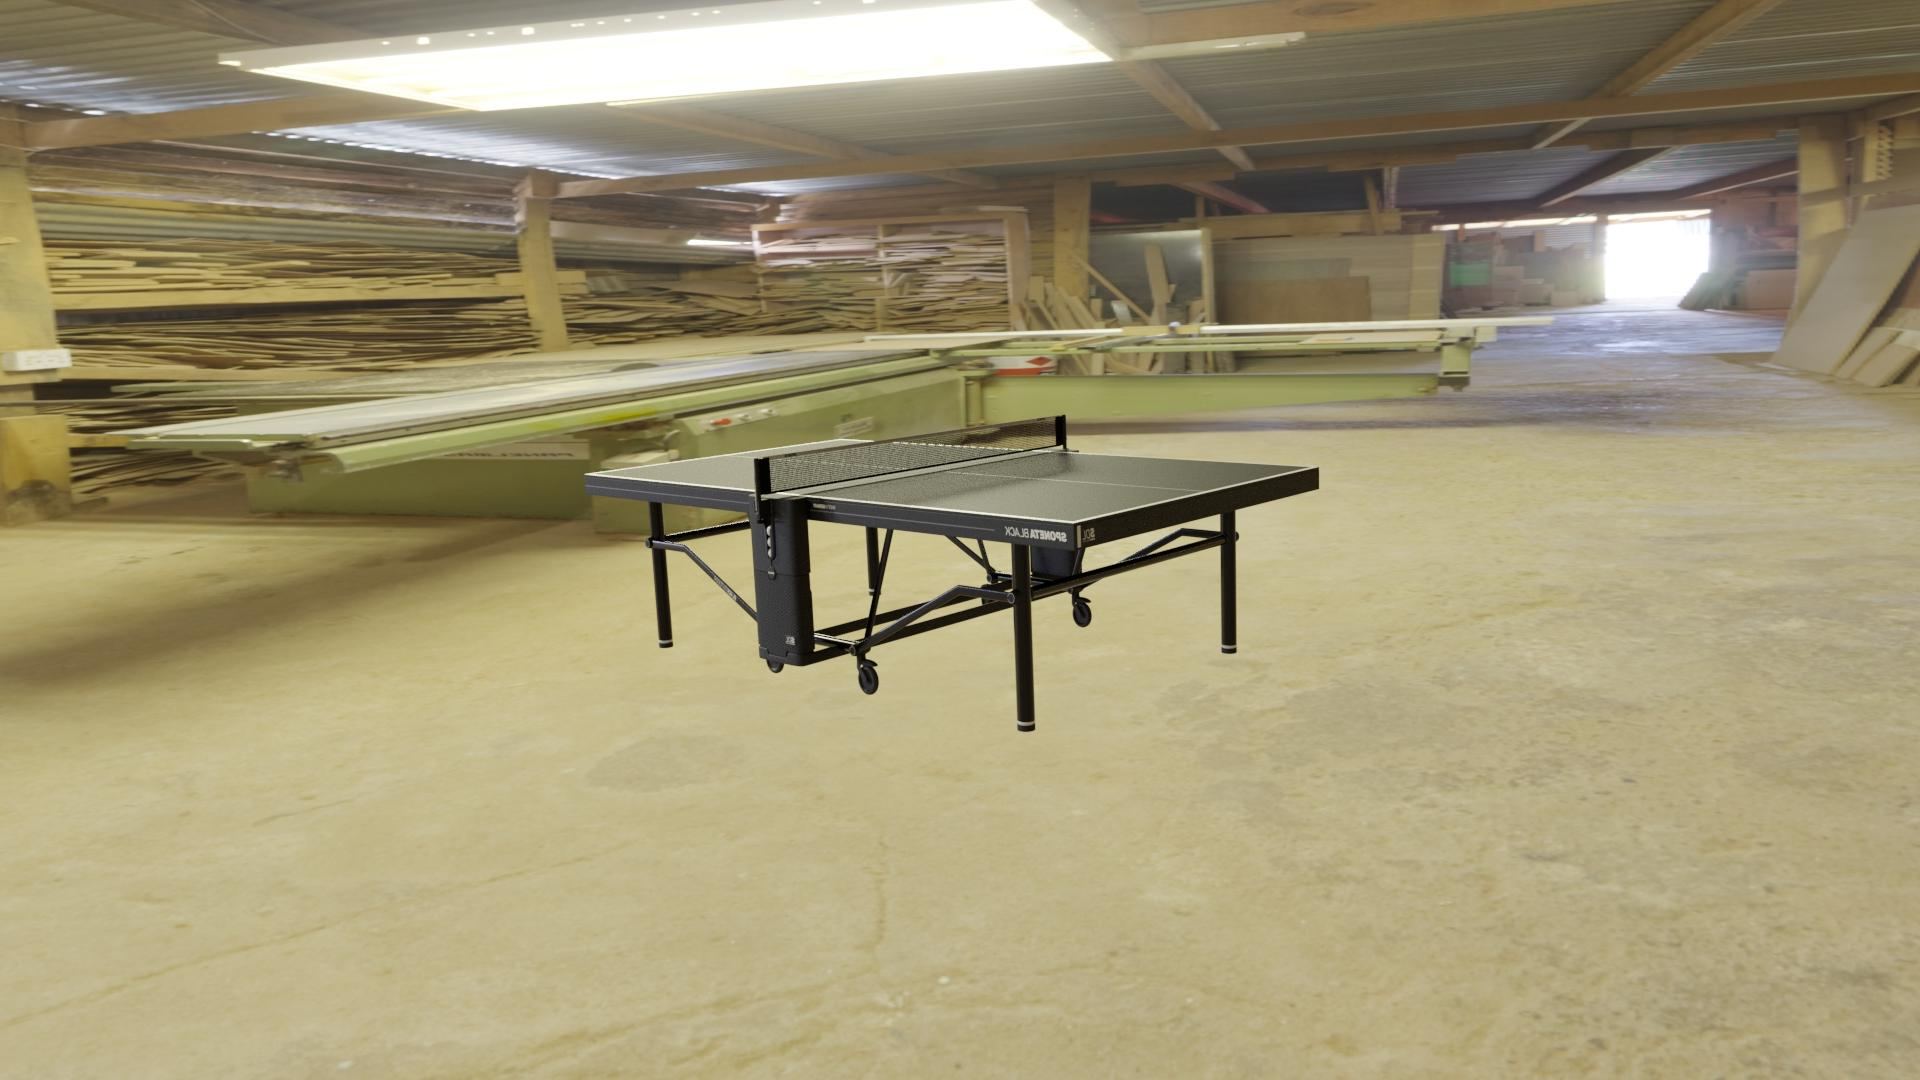table: (591, 439, 1312, 522)
